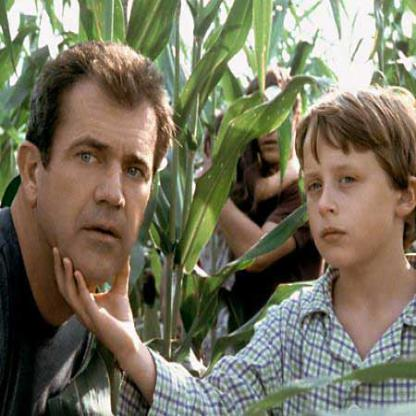face: (43, 57, 164, 283), (294, 106, 399, 269)
